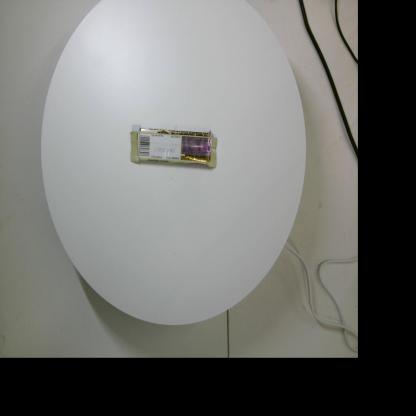Chocolate: (130, 124, 218, 168)
